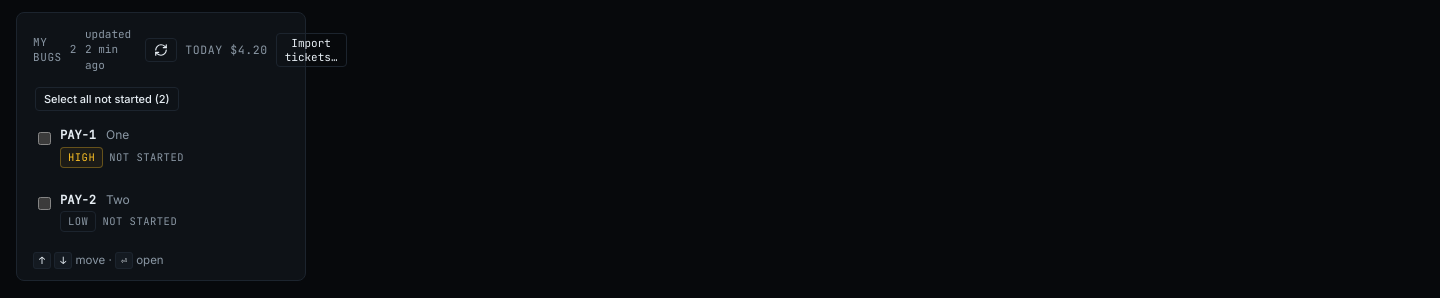
BugScreen — picking several bugs › ticking doesn't open the ticket
Expected: the number of options is 2, top-left (38, 127), bottom-right (184, 168); top-left (38, 192), bottom-right (177, 232)
Click the checkbox named "Select PAY-2". click: click(44, 203)
box: top-left (38, 197), bottom-right (51, 210)
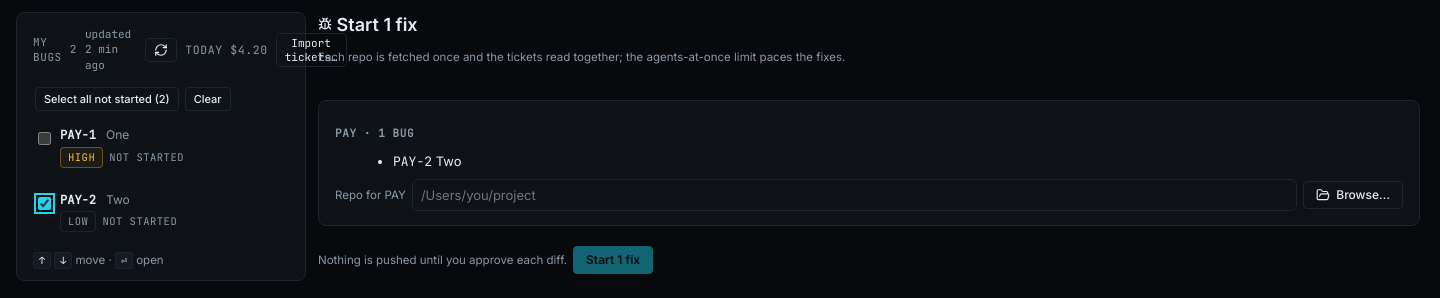
Expected: the element with test id "bulk-start" is shown
